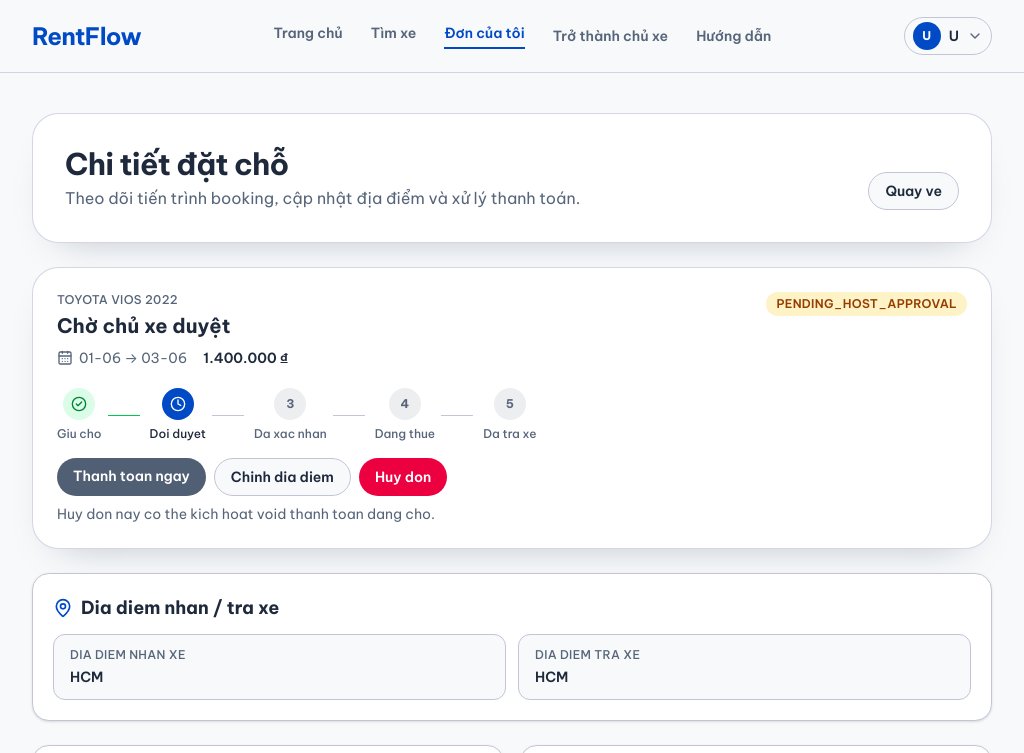
Scenario: BookingDetailPageView › shows accepted-success message when cancel requires background void retry
The image size is (1024, 753).
Expected: the text "Toyota Vios 2022" is shown, x1=57 y1=292 x2=178 y2=307
Click the button "Huy don": click(403, 477) x1=359 y1=458 x2=447 y2=496
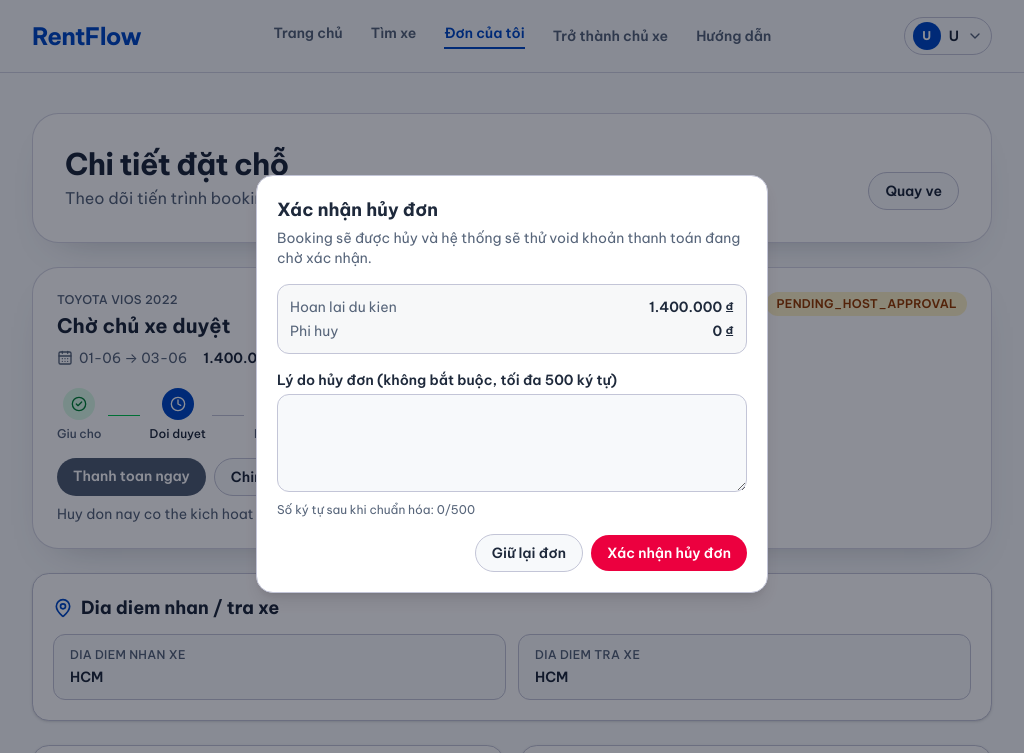
Expected: the text "Hoan lai du kien" is shown, x1=290 y1=297 x2=397 y2=317
Click the button "Xác nhận hủy đơn": click(669, 553) x1=591 y1=535 x2=747 y2=571
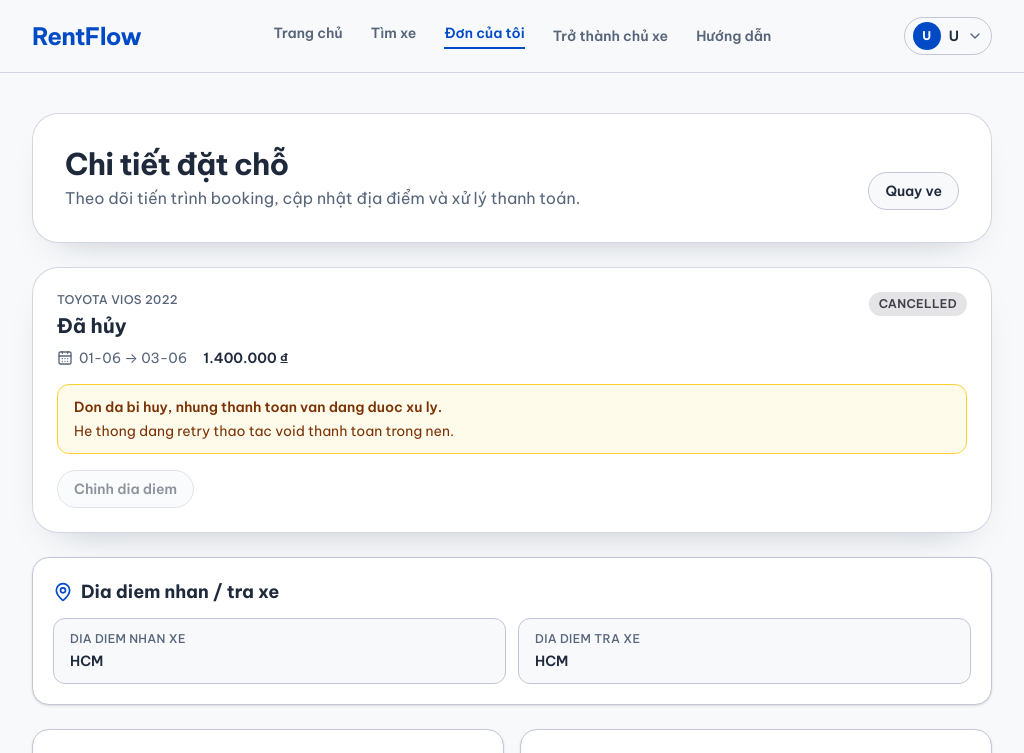
Expected: the text "Don da bi huy, nhung thanh toan van dang duoc xu ly." is shown, x1=74 y1=398 x2=442 y2=416
Expected: the text "He thong dang retry thao tac void thanh toan trong nen." is shown, x1=74 y1=422 x2=454 y2=440
